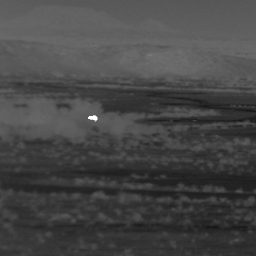Target: (87, 114, 99, 122)
